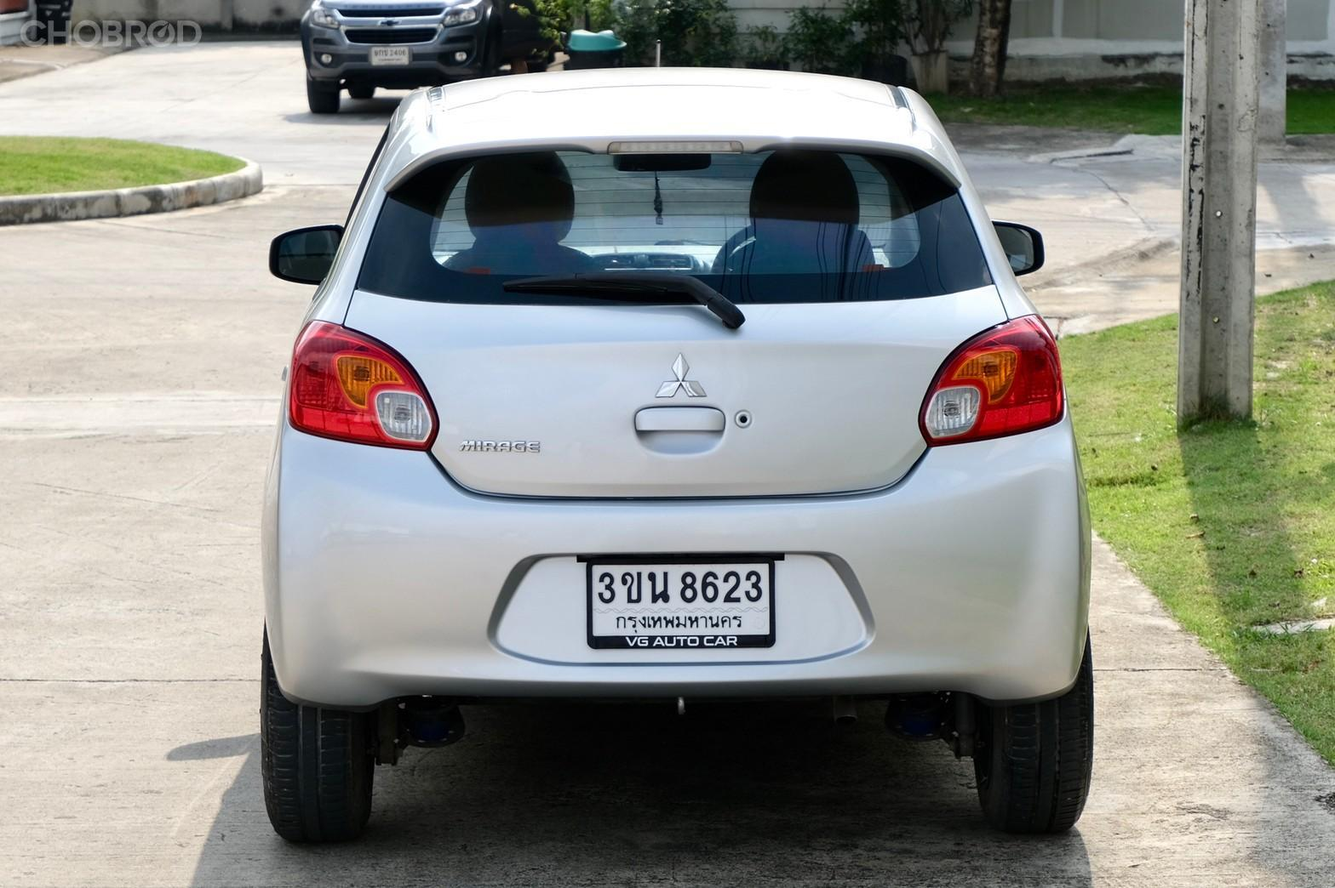license-plate: (584, 553, 778, 650)
